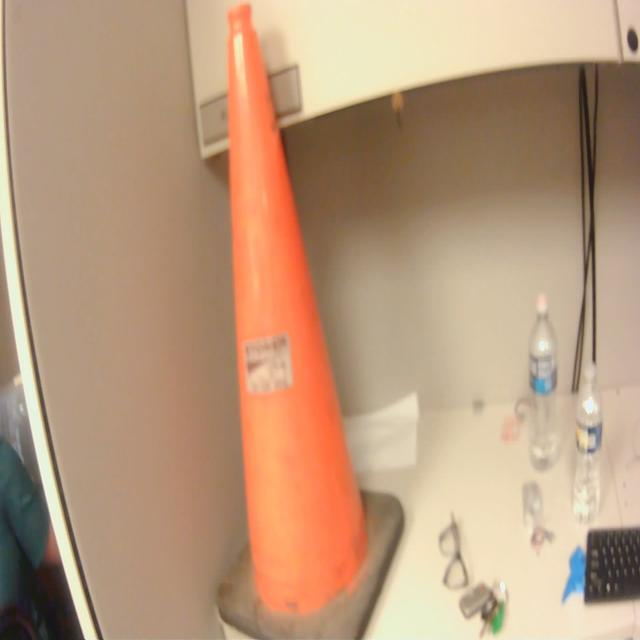traffic cone: (212, 1, 410, 640)
